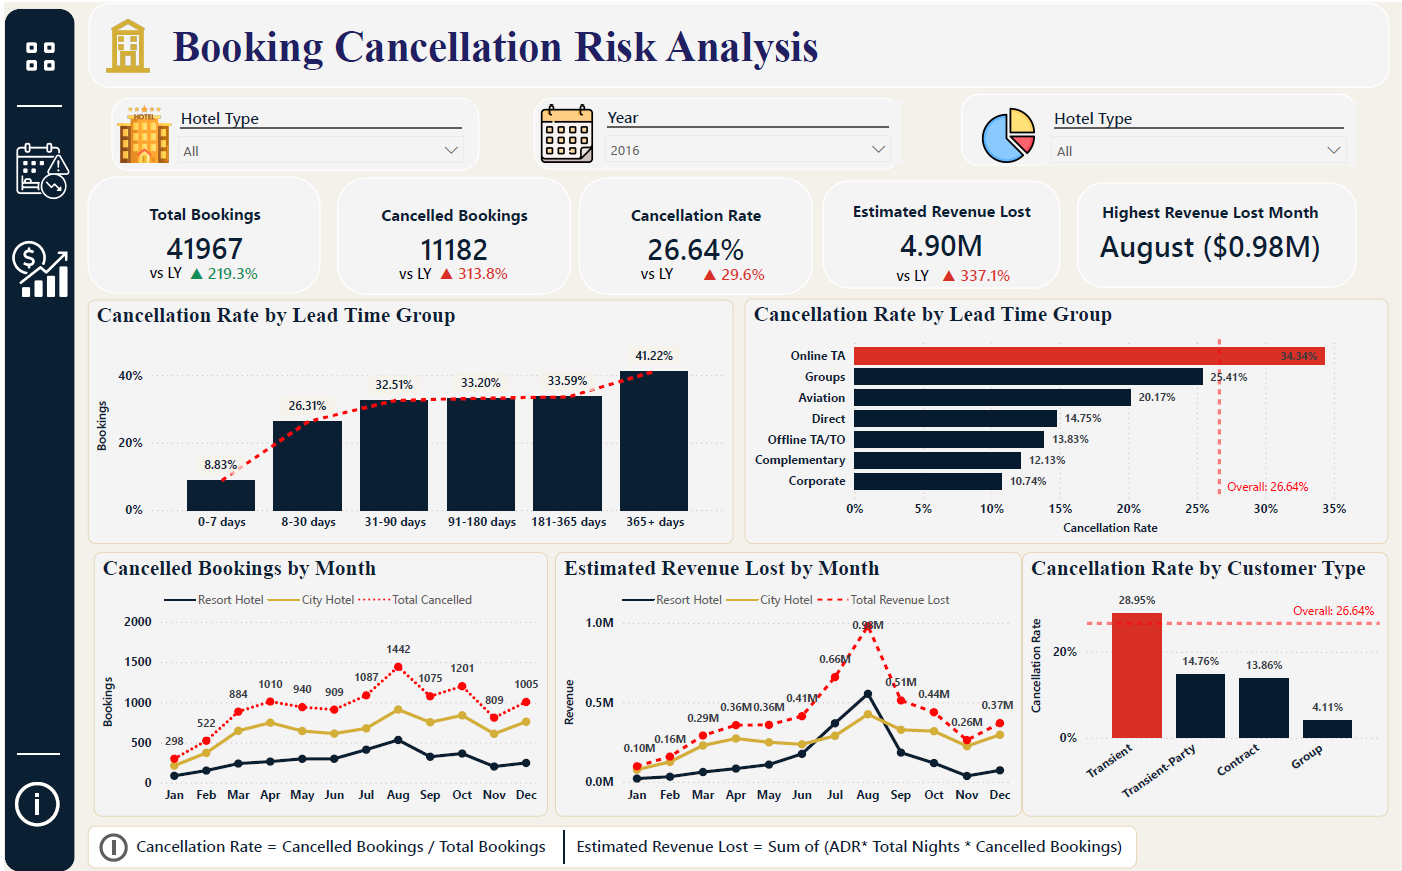

What the dashboard file says about the page in this screenshot:
{"tool":"powerbi","page":{"name":"Booking Cancellation Risk Analysis","canvas":[1400,870],"ordinal":2},"visuals":[{"type":"shape","box":[83.7,0,1303.1,85.2],"z":0},{"type":"image","box":[82.7,5.1,78.9,76.3],"z":1000},{"type":"textbox","box":[161.8,13.9,956.8,79.5],"z":2000},{"type":"shape","box":[0,5.8,70,864.5],"z":3000},{"type":"actionButton","box":[4.4,800.3,61.2,56.9],"z":4000},{"type":"image","box":[0,25.3,70,56.7],"z":5000},{"type":"image","box":[0,125,70,56],"z":6000},{"type":"image","box":[0,225,70,56],"z":7000},{"type":"image","box":[0,325,70,56],"z":8000},{"type":"image","box":[0,425,70,56],"z":9000},{"type":"shape","box":[13.3,82,43.4,43.4],"z":10000},{"type":"shape","box":[13.1,763.9,42.3,43.7],"z":11000},{"type":"shape","box":[107.1,95.3,368,72.4],"z":12000},{"type":"slicer","fields":{"Values":["public dim_hotel.hotel"]},"box":[162.6,98.9,307.6,63.9],"z":13000},{"type":"image","box":[107.1,102.5,65.1,57.9],"z":14000},{"type":"shape","box":[530.2,94.6,368,72.4],"z":15000},{"type":"slicer","fields":{"Values":["public dim_date.year"]},"box":[591.3,98.1,307.2,63.5],"z":16000},{"type":"image","box":[530.2,101.9,65.1,57.9],"z":17000},{"type":"shape","box":[958.5,90.7,395.8,72],"z":18000},{"type":"slicer","fields":{"Values":["public dim_hotel.hotel"]},"box":[1037.6,99.3,316.6,63.3],"z":19000},{"type":"image","box":[972.9,103.6,64.8,57.6],"z":20000},{"type":"shape","box":[82.8,173.8,233.6,116.8],"z":21000},{"type":"cardVisual","fields":{"Data":["fact_bookings.Total Bookings"]},"box":[89.6,180.6,221.4,100.5],"z":22000},{"type":"cardVisual","fields":{"Data":["fact_bookings.Total Bookings vs LY Label"]},"box":[127.7,232.2,183.4,65.2],"z":23000},{"type":"textbox","box":[139.9,254,48.9,36.7],"z":24000},{"type":"shape","box":[333.3,175.2,233.6,116.8],"z":25000},{"type":"cardVisual","fields":{"Data":["measure.Cancelled Bookings"]},"box":[340.1,182,221.4,100.5],"z":26000},{"type":"cardVisual","fields":{"Data":["measure.Cancelled Bookings vs LY Label"]},"box":[378.3,231.5,183.6,65.5],"z":27000},{"type":"textbox","box":[390.4,255.3,48.9,36.7],"z":28000},{"type":"shape","box":[575,175,233.6,116.8],"z":29000},{"type":"cardVisual","fields":{"Data":["measure.Cancellation Rate"]},"box":[581.8,181.8,221.4,100.5],"z":30000},{"type":"cardVisual","fields":{"Data":["measure.Average ADR vs LY Label"]},"box":[905.4,233.5,183.4,65.2],"z":31000},{"type":"textbox","box":[632.1,255.1,48.9,36.7],"z":32000},{"type":"shape","box":[819.2,178.2,237.5,107.9],"z":33000},{"type":"cardVisual","fields":{"Data":["measure.Estimated Revenue Lost"]},"box":[803.3,178.2,270.6,100.7],"z":34000},{"type":"cardVisual","fields":{"Data":["measure.Estimated Revenue Lost vs LY Label"]},"box":[881,234.6,183.8,64.3],"z":35000},{"type":"textbox","box":[888.4,256.9,48.9,36.7],"z":36000},{"type":"lineClusteredColumnComboChart","title":"Cancellation Rate by Lead Time Group","fields":{"Category":["fact_bookings.Lead Time Group"],"Y":["measure.Cancellation Rate"],"Y2":["measure.Cancellation Rate1"]},"box":[83.1,297.4,647.3,244.9],"z":37000},{"type":"cardVisual","fields":{"Data":["measure.Cancellation Rate vs LY Label"]},"box":[638.4,233.4,184.1,64.2],"z":38000},{"type":"shape","box":[1073.6,179.9,280.6,105.1],"z":39000},{"type":"cardVisual","fields":{"Data":["measure.Highest Revenue Lost Month Label"]},"box":[1056.3,179.9,302.2,99.3],"z":40000},{"type":"clusteredBarChart","title":"Cancellation Rate by Lead Time Group","fields":{"Category":["dim_market_segment.market_segment"],"Y":["measure.Cancellation Rate"]},"box":[740.6,295.9,645.8,246.4],"z":41000},{"type":"columnChart","title":"Cancellation Rate by Customer Type","fields":{"Category":["dim_customer_segment.customer_type"],"Y":["measure.Cancellation Rate"]},"box":[1019,549.6,367.4,265.3],"z":42000},{"type":"textbox","box":[83.1,823.6,1051.1,43.7],"z":43000},{"type":"shape","box":[537.9,829.5,43.7,32.1],"z":44000},{"type":"actionButton","box":[90.4,825.1,37.9,40.8],"z":45000},{"type":"lineChart","title":"Cancelled Bookings by Month","fields":{"Category":["dim_date.month_short"],"Y":["measure.Cancelled Bookings Resort Hotel","measure.Cancelled Bookings City Hotel","measure.Total Cancelled Bookings"]},"box":[88.9,549.6,454.8,265.3],"z":46000},{"type":"lineChart","title":"Estimated Revenue Lost by Month","fields":{"Category":["dim_date.month_short"],"Y":["measure.Estimated Revenue Lost Resort Hotel","measure.Estimated Revenue Lost City Hotel","measure.Total Estimated Revenue Lost"]},"box":[551,549.6,467.9,265.3],"z":47000}]}

Visuals, with their boxes on the page's 1400x870 design canvas (x1, y1, x2, y2). These are canvas units, not pixel positions in the 1402x871 screenshot, which may show the page scaled, cropped or inside an application window:
shape: 84,0,1387,85
image: 83,5,162,81
textbox: 162,14,1119,93
shape: 0,6,70,870
actionButton: 4,800,66,857
image: 0,25,70,82
image: 0,125,70,181
image: 0,225,70,281
image: 0,325,70,381
image: 0,425,70,481
shape: 13,82,57,125
shape: 13,764,55,808
shape: 107,95,475,168
slicer - public dim_hotel.hotel: 163,99,470,163
image: 107,102,172,160
shape: 530,95,898,167
slicer - public dim_date.year: 591,98,898,162
image: 530,102,595,160
shape: 958,91,1354,163
slicer - public dim_hotel.hotel: 1038,99,1354,163
image: 973,104,1038,161
shape: 83,174,316,291
cardVisual - fact_bookings.Total Bookings: 90,181,311,281
cardVisual - fact_bookings.Total Bookings vs LY Label: 128,232,311,297
textbox: 140,254,189,291
shape: 333,175,567,292
cardVisual - measure.Cancelled Bookings: 340,182,562,282
cardVisual - measure.Cancelled Bookings vs LY Label: 378,232,562,297
textbox: 390,255,439,292
shape: 575,175,809,292
cardVisual - measure.Cancellation Rate: 582,182,803,282
cardVisual - measure.Average ADR vs LY Label: 905,234,1089,299
textbox: 632,255,681,292
shape: 819,178,1057,286
cardVisual - measure.Estimated Revenue Lost: 803,178,1074,279
cardVisual - measure.Estimated Revenue Lost vs LY Label: 881,235,1065,299
textbox: 888,257,937,294
"Cancellation Rate by Lead Time Group" lineClusteredColumnComboChart: 83,297,730,542
cardVisual - measure.Cancellation Rate vs LY Label: 638,233,822,298
shape: 1074,180,1354,285
cardVisual - measure.Highest Revenue Lost Month Label: 1056,180,1358,279
"Cancellation Rate by Lead Time Group" clusteredBarChart: 741,296,1386,542
"Cancellation Rate by Customer Type" columnChart: 1019,550,1386,815
textbox: 83,824,1134,867
shape: 538,830,582,862
actionButton: 90,825,128,866
"Cancelled Bookings by Month" lineChart: 89,550,544,815
"Estimated Revenue Lost by Month" lineChart: 551,550,1019,815
